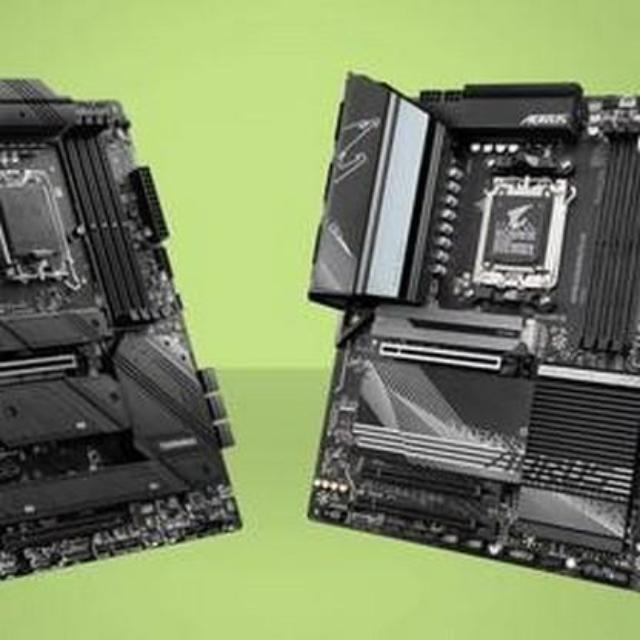Mainboard: (297, 56, 640, 594), (0, 78, 243, 592)
